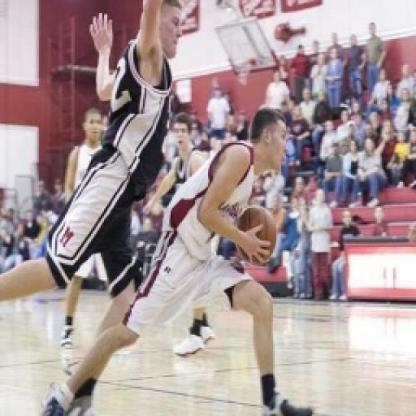basketball: (235, 203, 279, 263)
